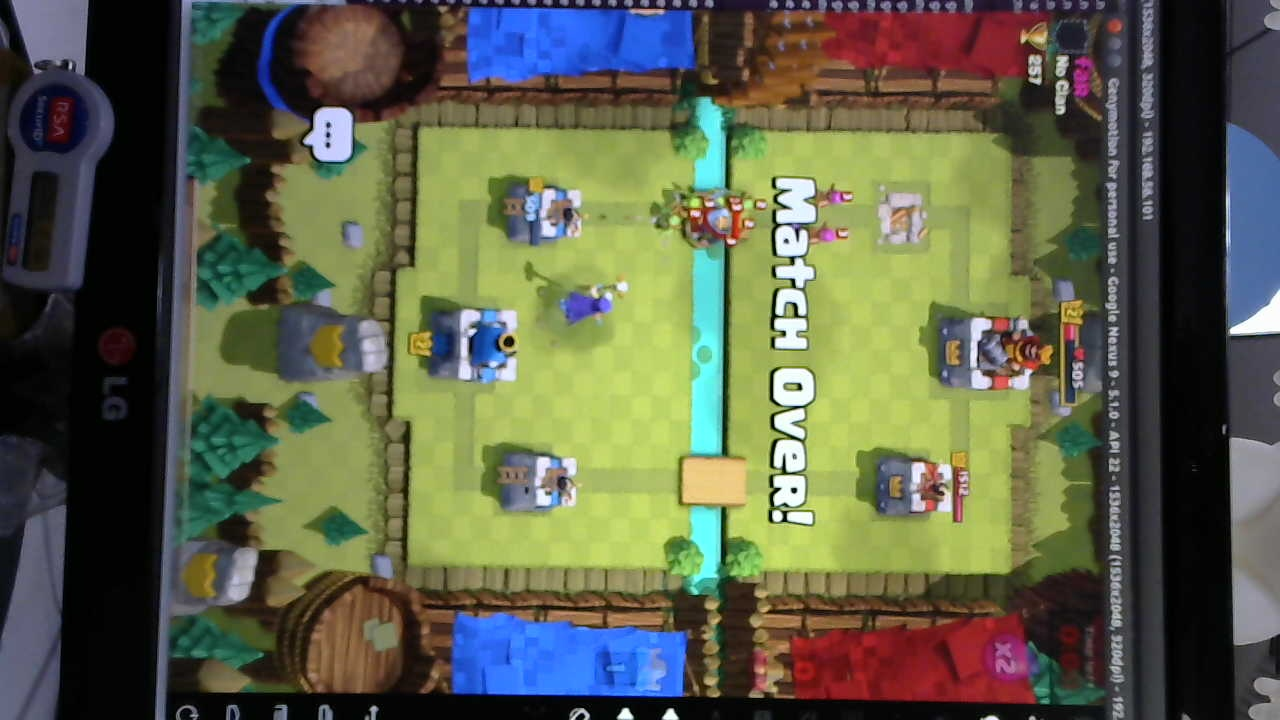archers: (810, 187, 854, 248)
arena: (489, 445, 578, 515), (504, 181, 586, 245)
darena: (873, 184, 932, 250)
earena: (875, 448, 953, 515)
eking: (935, 306, 1042, 395)
king: (429, 300, 524, 390)
knight: (688, 197, 740, 245)
speargoblins: (647, 191, 699, 231)
witch: (557, 278, 619, 323)
